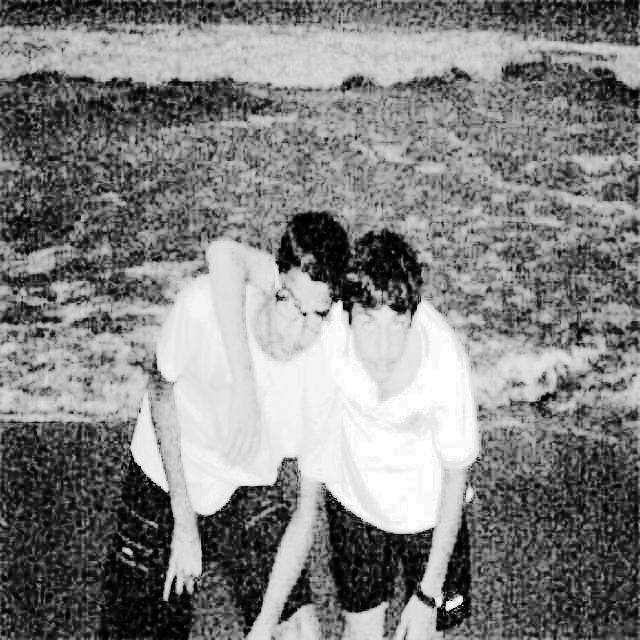Person: (103, 201, 347, 640), (321, 223, 482, 640)
